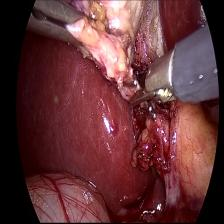Grasper: (30, 0, 102, 56)
Scissors: (125, 46, 181, 112)
